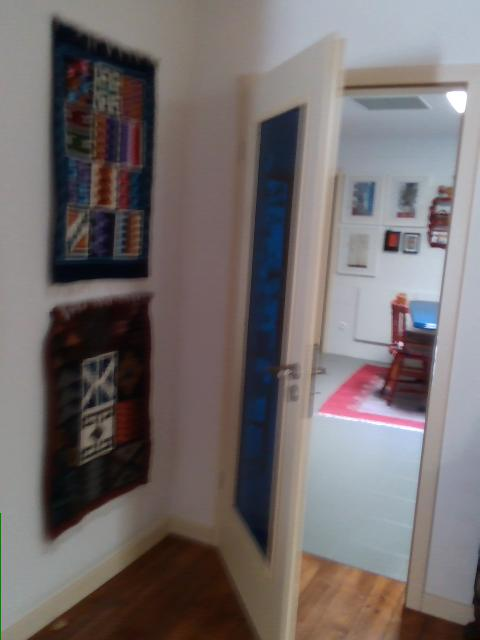semi_door: (214, 29, 479, 639)
